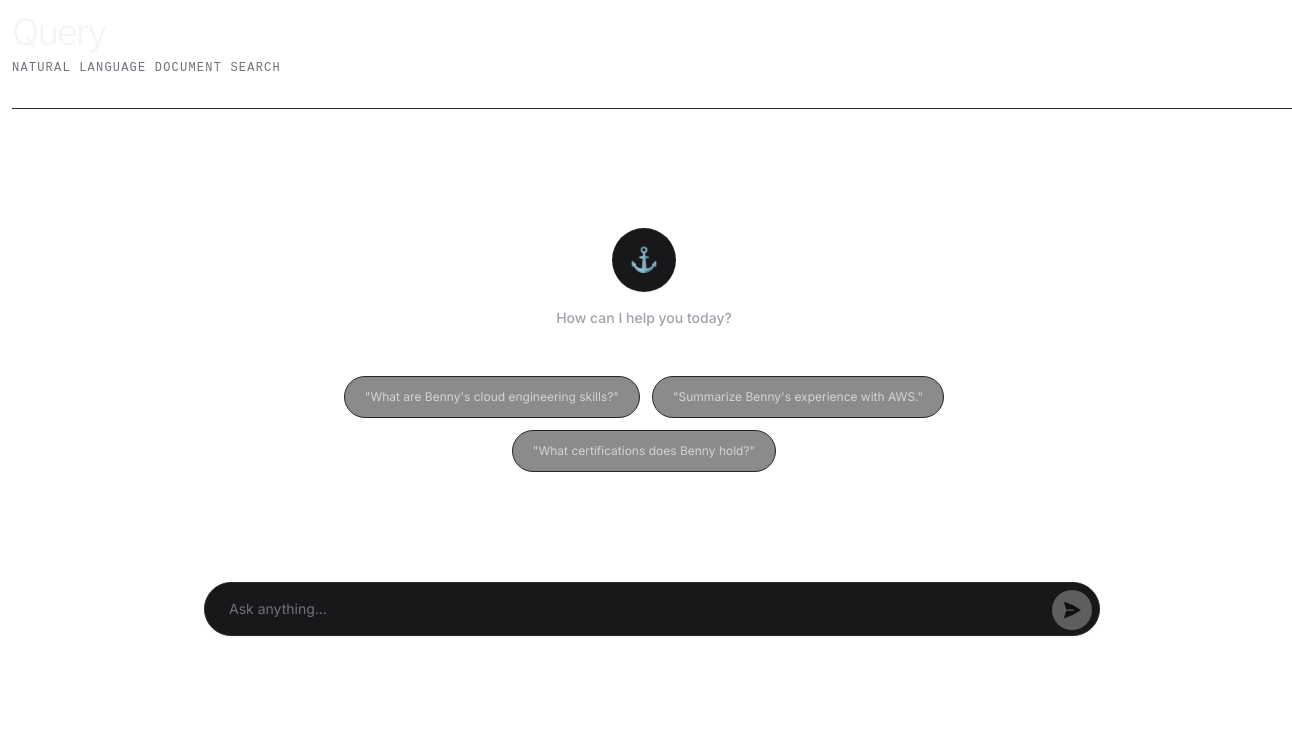
Test: ChatPage UI - Gemini 429 Rate Limit Handling › renders rate limit message even if API returns 429 with empty error field or only code
This screenshot has width=1292, height=732.
Type "What is in the document?" into the field with placeholder "Ask anything..." at (652, 609), box top-left (204, 582), bottom-right (1100, 636)
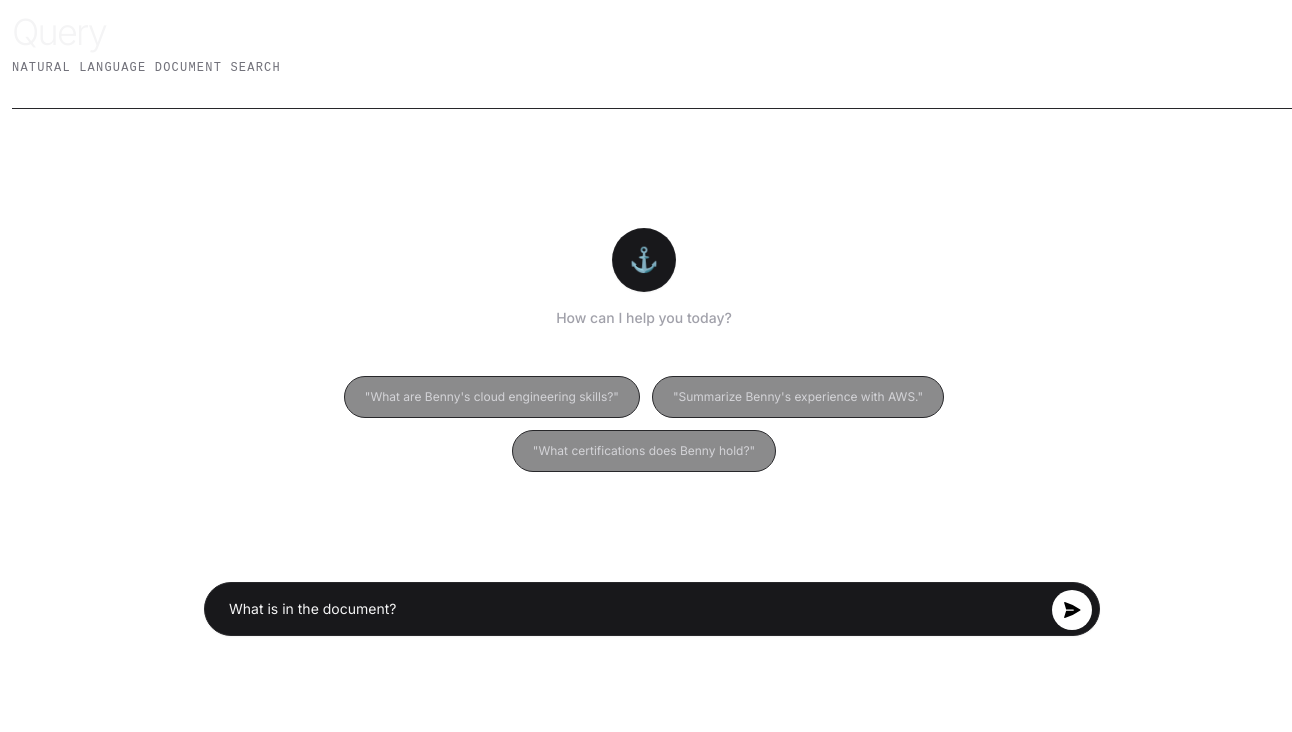
Click the 4th button at (1072, 610), box top-left (1052, 590), bottom-right (1092, 630)
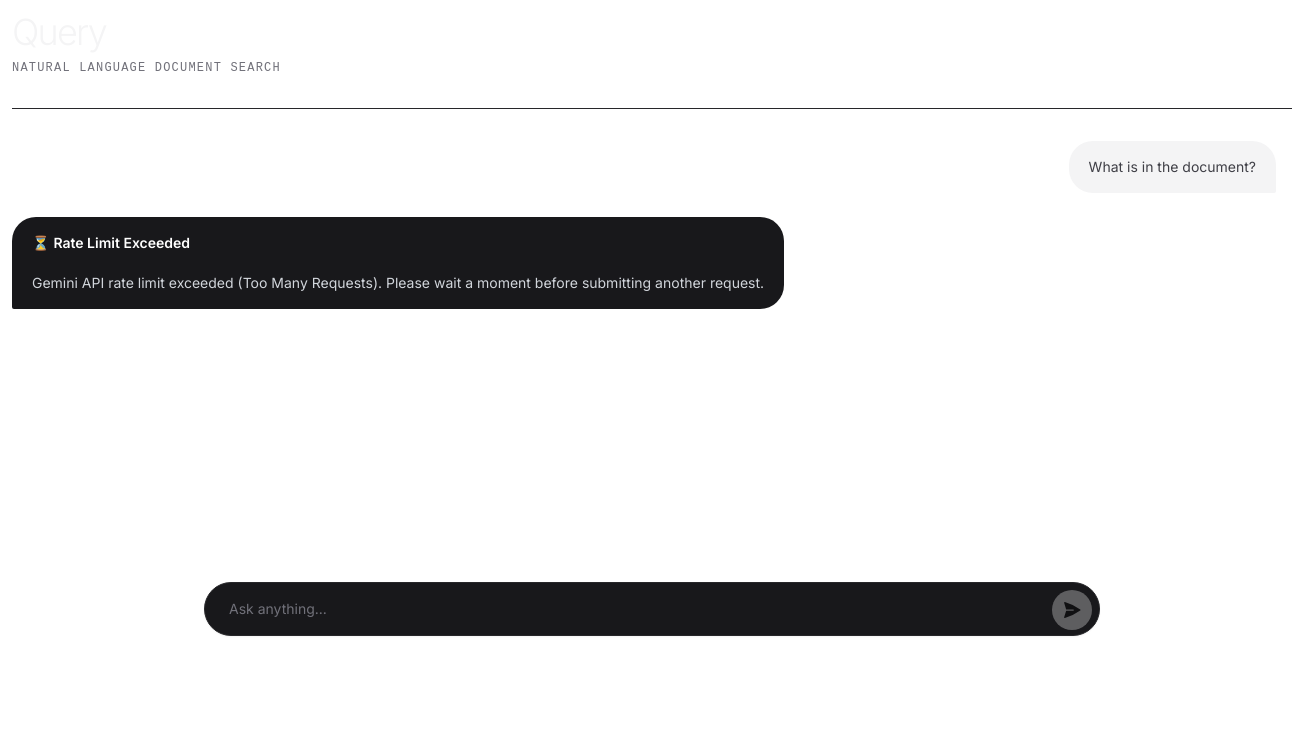
Check: the text "Rate Limit Exceeded" is shown, box top-left (53, 234), bottom-right (190, 251)
Check: the text "Gemini API rate limit exceeded (Too Many Requests). Please wait a moment" is shown, box top-left (32, 274), bottom-right (764, 291)
